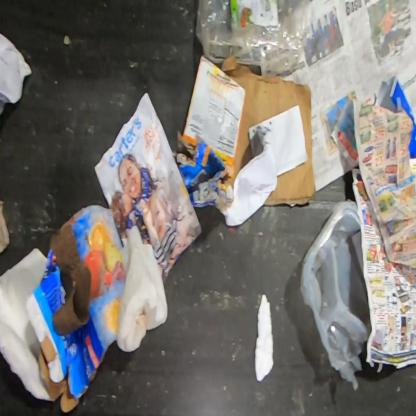cardboard: (23, 206, 126, 413), (213, 54, 317, 206), (182, 55, 245, 168), (172, 132, 234, 213)
rigid_plastic: (299, 198, 372, 391), (196, 0, 315, 74), (372, 74, 415, 159)
